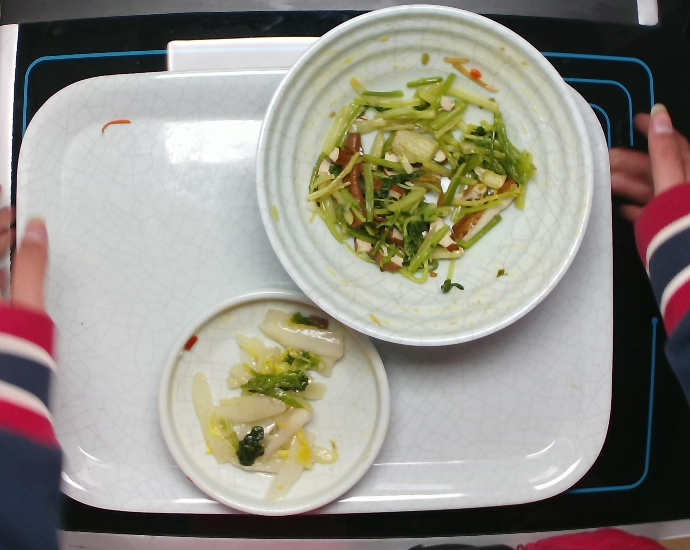JYsf-Da_Tang_Wan: (252, 2, 597, 348)
JYsf-Xiao_Yuan_Pan: (155, 289, 391, 520)
